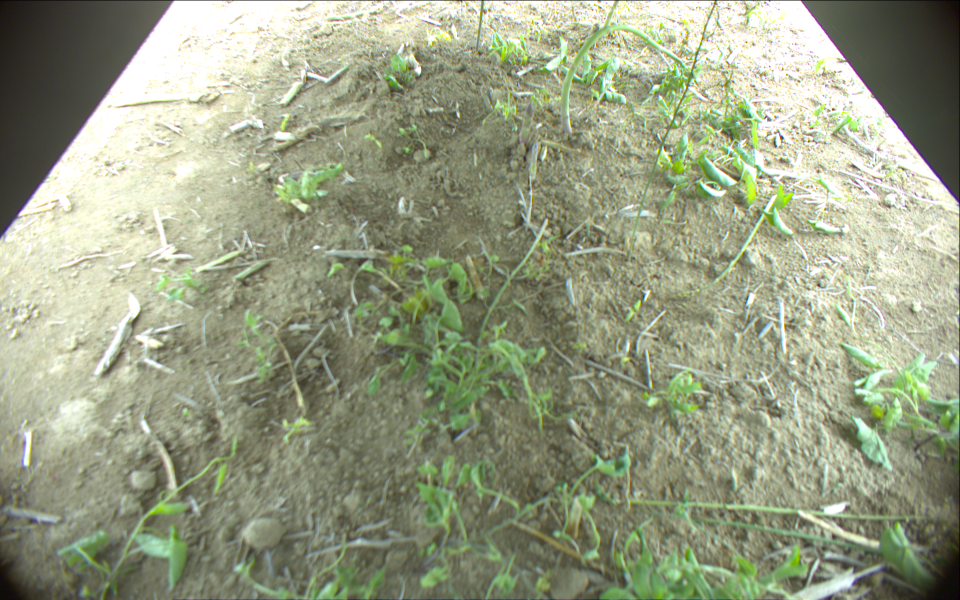aspa: (625, 1, 718, 261), (560, 26, 692, 132), (669, 193, 781, 299), (476, 218, 549, 357), (607, 496, 960, 524), (474, 1, 487, 51), (519, 101, 534, 142), (604, 1, 620, 28)
